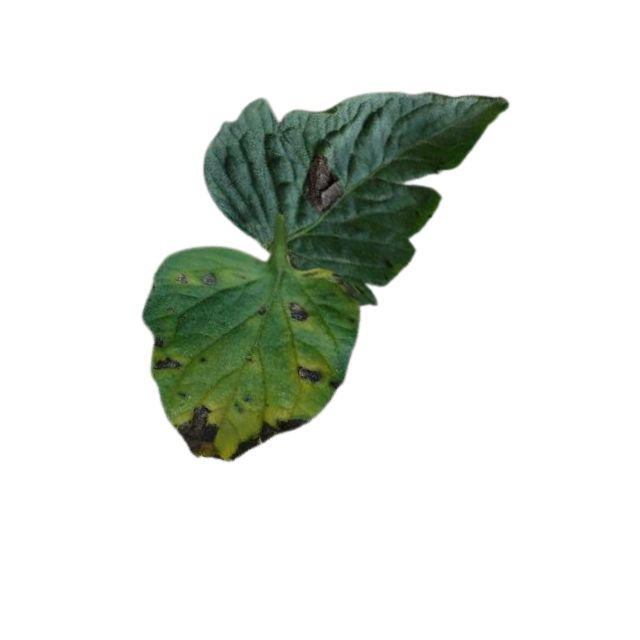Early_blight: (227, 416, 308, 460), (301, 152, 344, 214), (174, 403, 218, 459), (295, 362, 322, 385), (286, 301, 310, 323), (154, 355, 181, 371), (152, 334, 163, 348), (329, 378, 341, 390)
